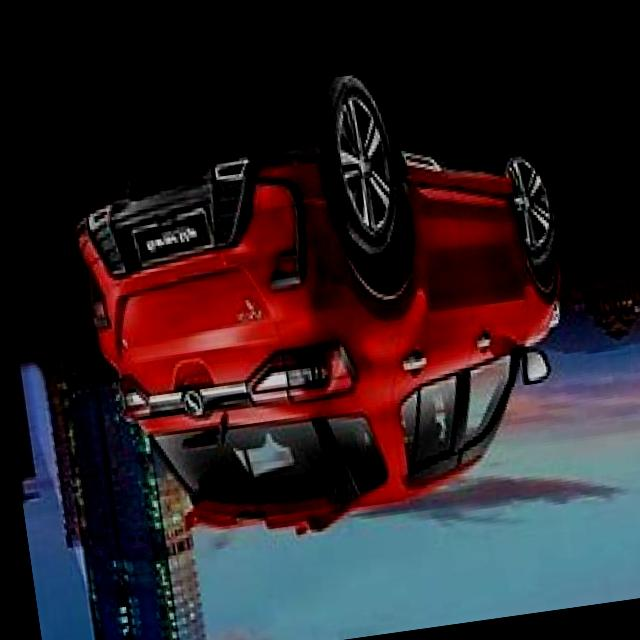PeroduaAtiva: (54, 43, 600, 567)
